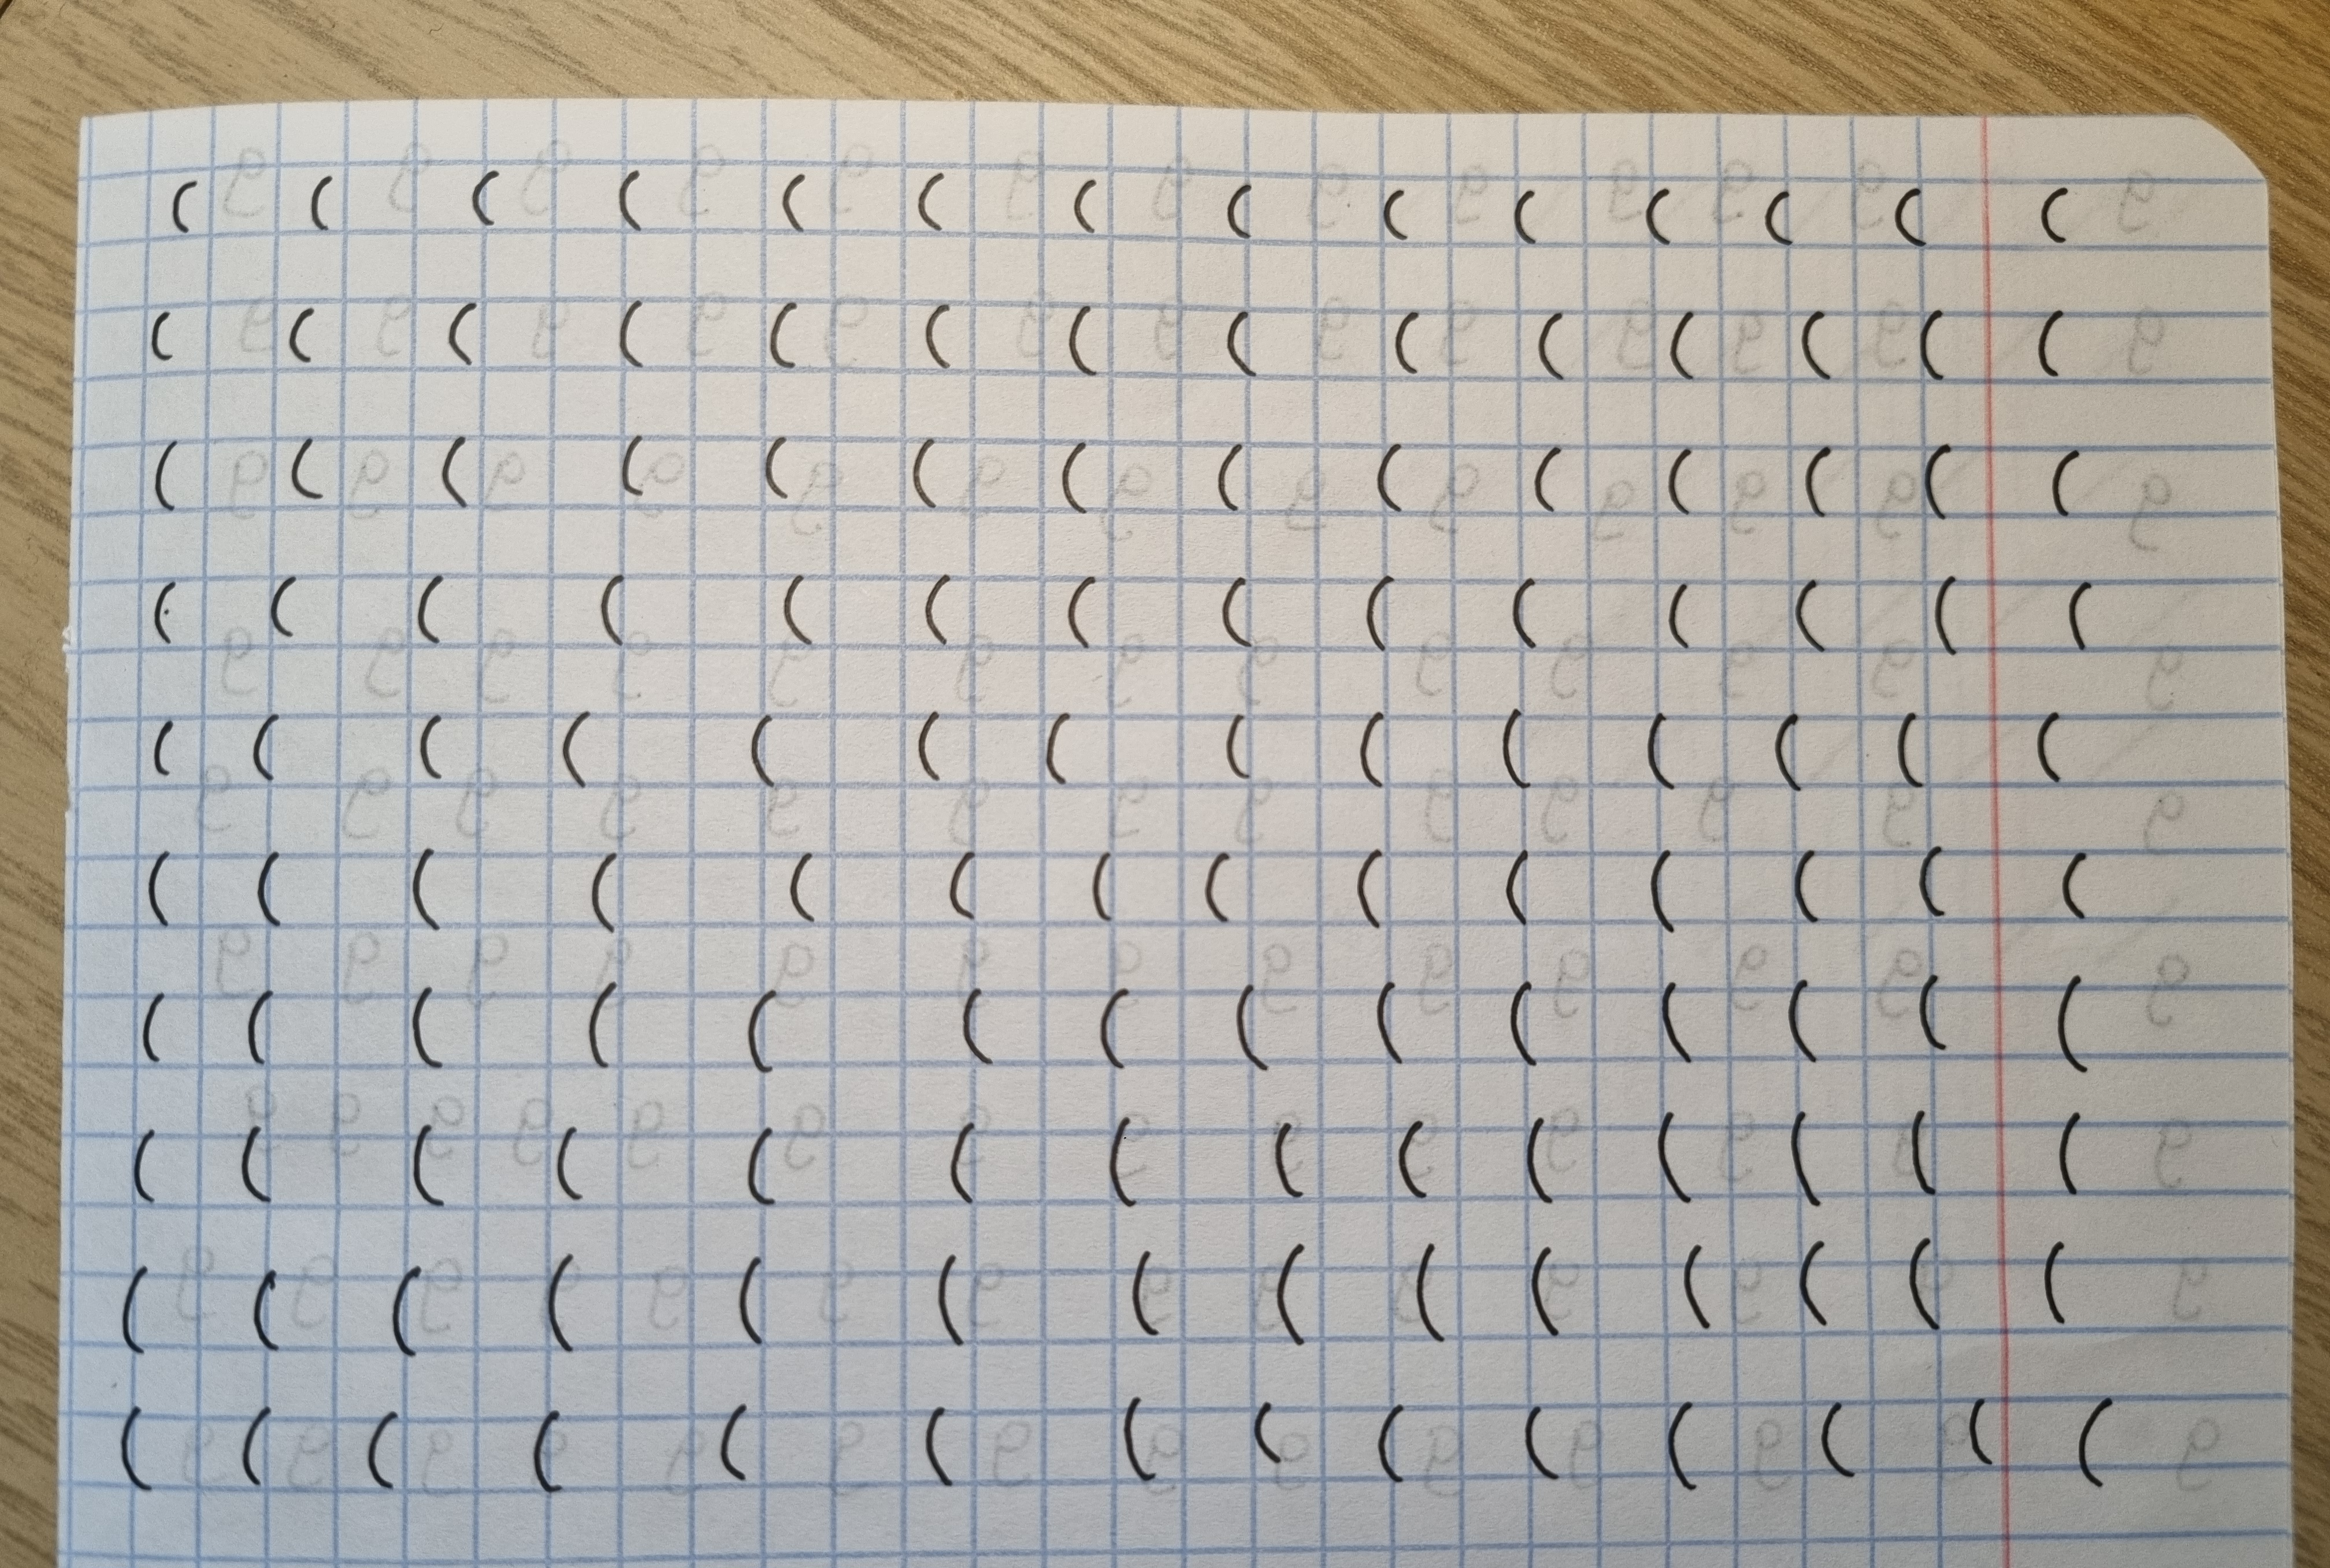(: (1903, 1228, 1957, 1339), (537, 1246, 588, 1355), (2050, 968, 2099, 1076), (1791, 1234, 1842, 1335), (1229, 980, 1283, 1073), (1679, 1241, 1730, 1335), (406, 1115, 457, 1208), (1127, 1241, 1173, 1344), (1413, 1236, 1458, 1339), (1660, 1384, 1705, 1487), (742, 982, 790, 1076), (1660, 438, 1714, 520), (1766, 709, 1819, 793), (2073, 1391, 2120, 1484), (385, 1260, 431, 1356), (1814, 1391, 1864, 1477), (1395, 1115, 1442, 1206), (954, 980, 1003, 1067), (1639, 704, 1688, 791), (404, 563, 457, 644), (406, 840, 452, 933), (1784, 1106, 1829, 1199), (404, 976, 448, 1073), (1651, 975, 1700, 1060), (1103, 1111, 1145, 1211), (1120, 1393, 1166, 1484), (930, 1248, 973, 1342), (1651, 1104, 1698, 1192), (1915, 961, 1961, 1050), (1518, 1395, 1563, 1484), (114, 1400, 156, 1496), (714, 1395, 758, 1486), (1498, 704, 1544, 791), (1369, 973, 1413, 1064), (917, 1404, 965, 1487), (1274, 1237, 1311, 1344), (777, 567, 823, 653), (585, 976, 625, 1073), (411, 704, 460, 782), (1096, 980, 1138, 1071), (525, 1407, 569, 1493), (550, 1116, 592, 1206), (236, 1116, 278, 1206), (733, 1246, 772, 1342), (942, 1115, 986, 1199), (362, 1407, 404, 1494), (1922, 567, 1964, 655), (1903, 1106, 1947, 1190), (242, 984, 287, 1064), (1644, 842, 1684, 933), (747, 709, 791, 791), (1796, 301, 1840, 383), (586, 843, 627, 933), (1505, 971, 1544, 1064), (1791, 572, 1833, 656), (247, 1264, 287, 1351), (1525, 1239, 1565, 1326), (744, 1116, 783, 1208), (558, 705, 600, 788), (1353, 704, 1395, 786), (252, 842, 291, 931), (1782, 971, 1821, 1060), (1371, 436, 1420, 506), (1269, 1115, 1309, 1199), (917, 569, 961, 646), (1521, 1111, 1560, 1199), (1353, 840, 1393, 922), (116, 1260, 151, 1355), (1787, 840, 1829, 919), (2041, 1234, 2076, 1328), (1063, 572, 1103, 653), (916, 704, 956, 784), (1197, 840, 1236, 924), (1913, 840, 1955, 917), (2052, 1104, 2087, 1195), (1222, 299, 1262, 378), (2031, 704, 2071, 782), (1964, 1384, 2003, 1466), (1915, 439, 1957, 514), (145, 432, 184, 513), (1089, 845, 1127, 926), (784, 842, 823, 922), (756, 290, 798, 364), (1250, 1395, 1292, 1468), (1374, 1400, 1411, 1484), (593, 569, 634, 644), (249, 704, 289, 779), (142, 843, 179, 926), (917, 290, 956, 367), (1360, 569, 1399, 646), (947, 843, 987, 917), (240, 1396, 273, 1484), (1913, 298, 1952, 373), (1894, 705, 1931, 784), (264, 563, 305, 635), (445, 292, 483, 366), (909, 161, 949, 231), (1061, 298, 1101, 367), (130, 1118, 159, 1213), (2043, 438, 2085, 504), (1514, 177, 1551, 252), (1507, 572, 1544, 647), (287, 431, 326, 502), (1043, 705, 1078, 784), (1211, 569, 1253, 633), (2062, 572, 2099, 646), (2027, 298, 2062, 374), (1663, 570, 1698, 647), (2059, 842, 2094, 919), (147, 572, 184, 644), (1213, 441, 1252, 509), (137, 984, 172, 1057), (1376, 182, 1418, 243), (1640, 180, 1682, 241), (1222, 705, 1255, 782), (1532, 438, 1565, 514), (1385, 304, 1425, 367), (1502, 837, 1533, 917), (1054, 432, 1087, 506), (145, 709, 182, 775), (903, 432, 942, 495), (1665, 304, 1700, 373), (1810, 453, 1845, 521), (1218, 173, 1255, 238), (165, 170, 203, 231), (1763, 180, 1803, 238), (1533, 304, 1567, 373), (609, 425, 644, 490), (753, 431, 791, 488), (614, 292, 646, 362), (1889, 180, 1926, 240), (145, 301, 179, 364), (777, 164, 811, 226), (436, 431, 469, 490), (306, 166, 338, 228), (2036, 177, 2069, 235), (284, 299, 313, 362), (467, 161, 499, 217), (1071, 170, 1103, 226), (614, 161, 644, 219)
